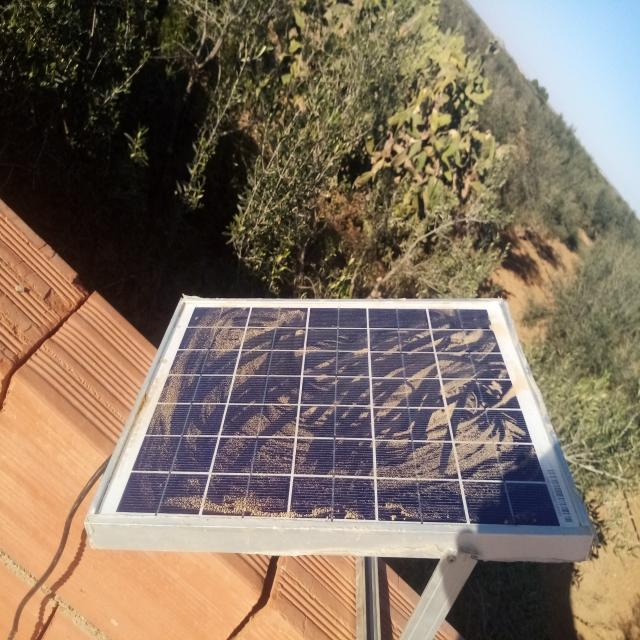faulty: (92, 293, 597, 531)
